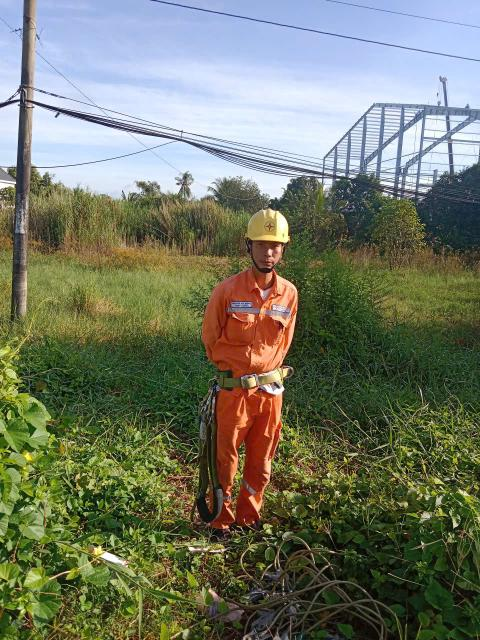harness: (196, 356, 302, 409)
helmet: (239, 195, 301, 251)
